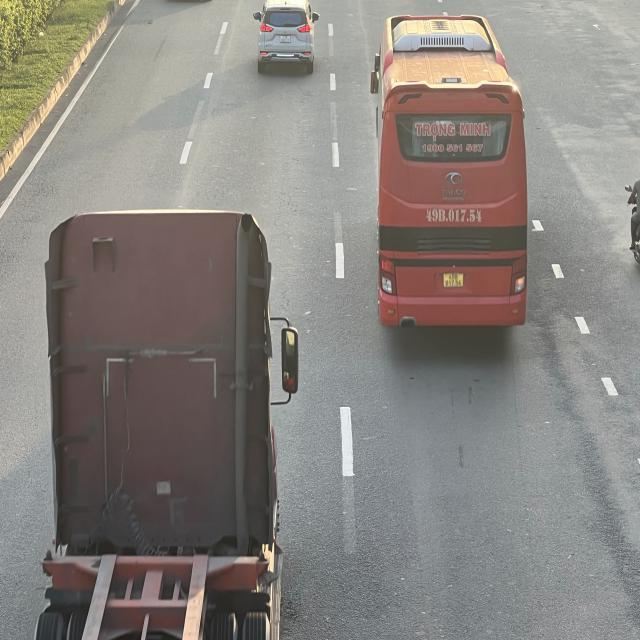car: (253, 0, 319, 71)
coach: (369, 12, 526, 326)
container: (42, 214, 299, 640)
